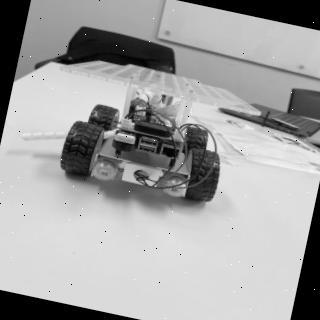vehicle: (52, 56, 243, 218)
